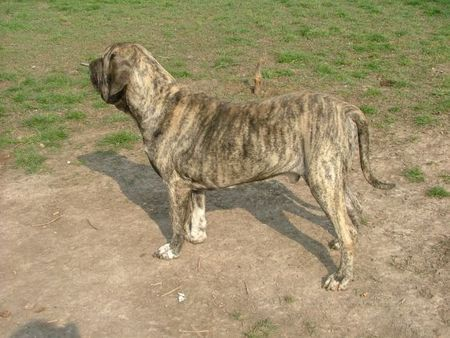fila_brasileiro: (88, 40, 395, 292)
